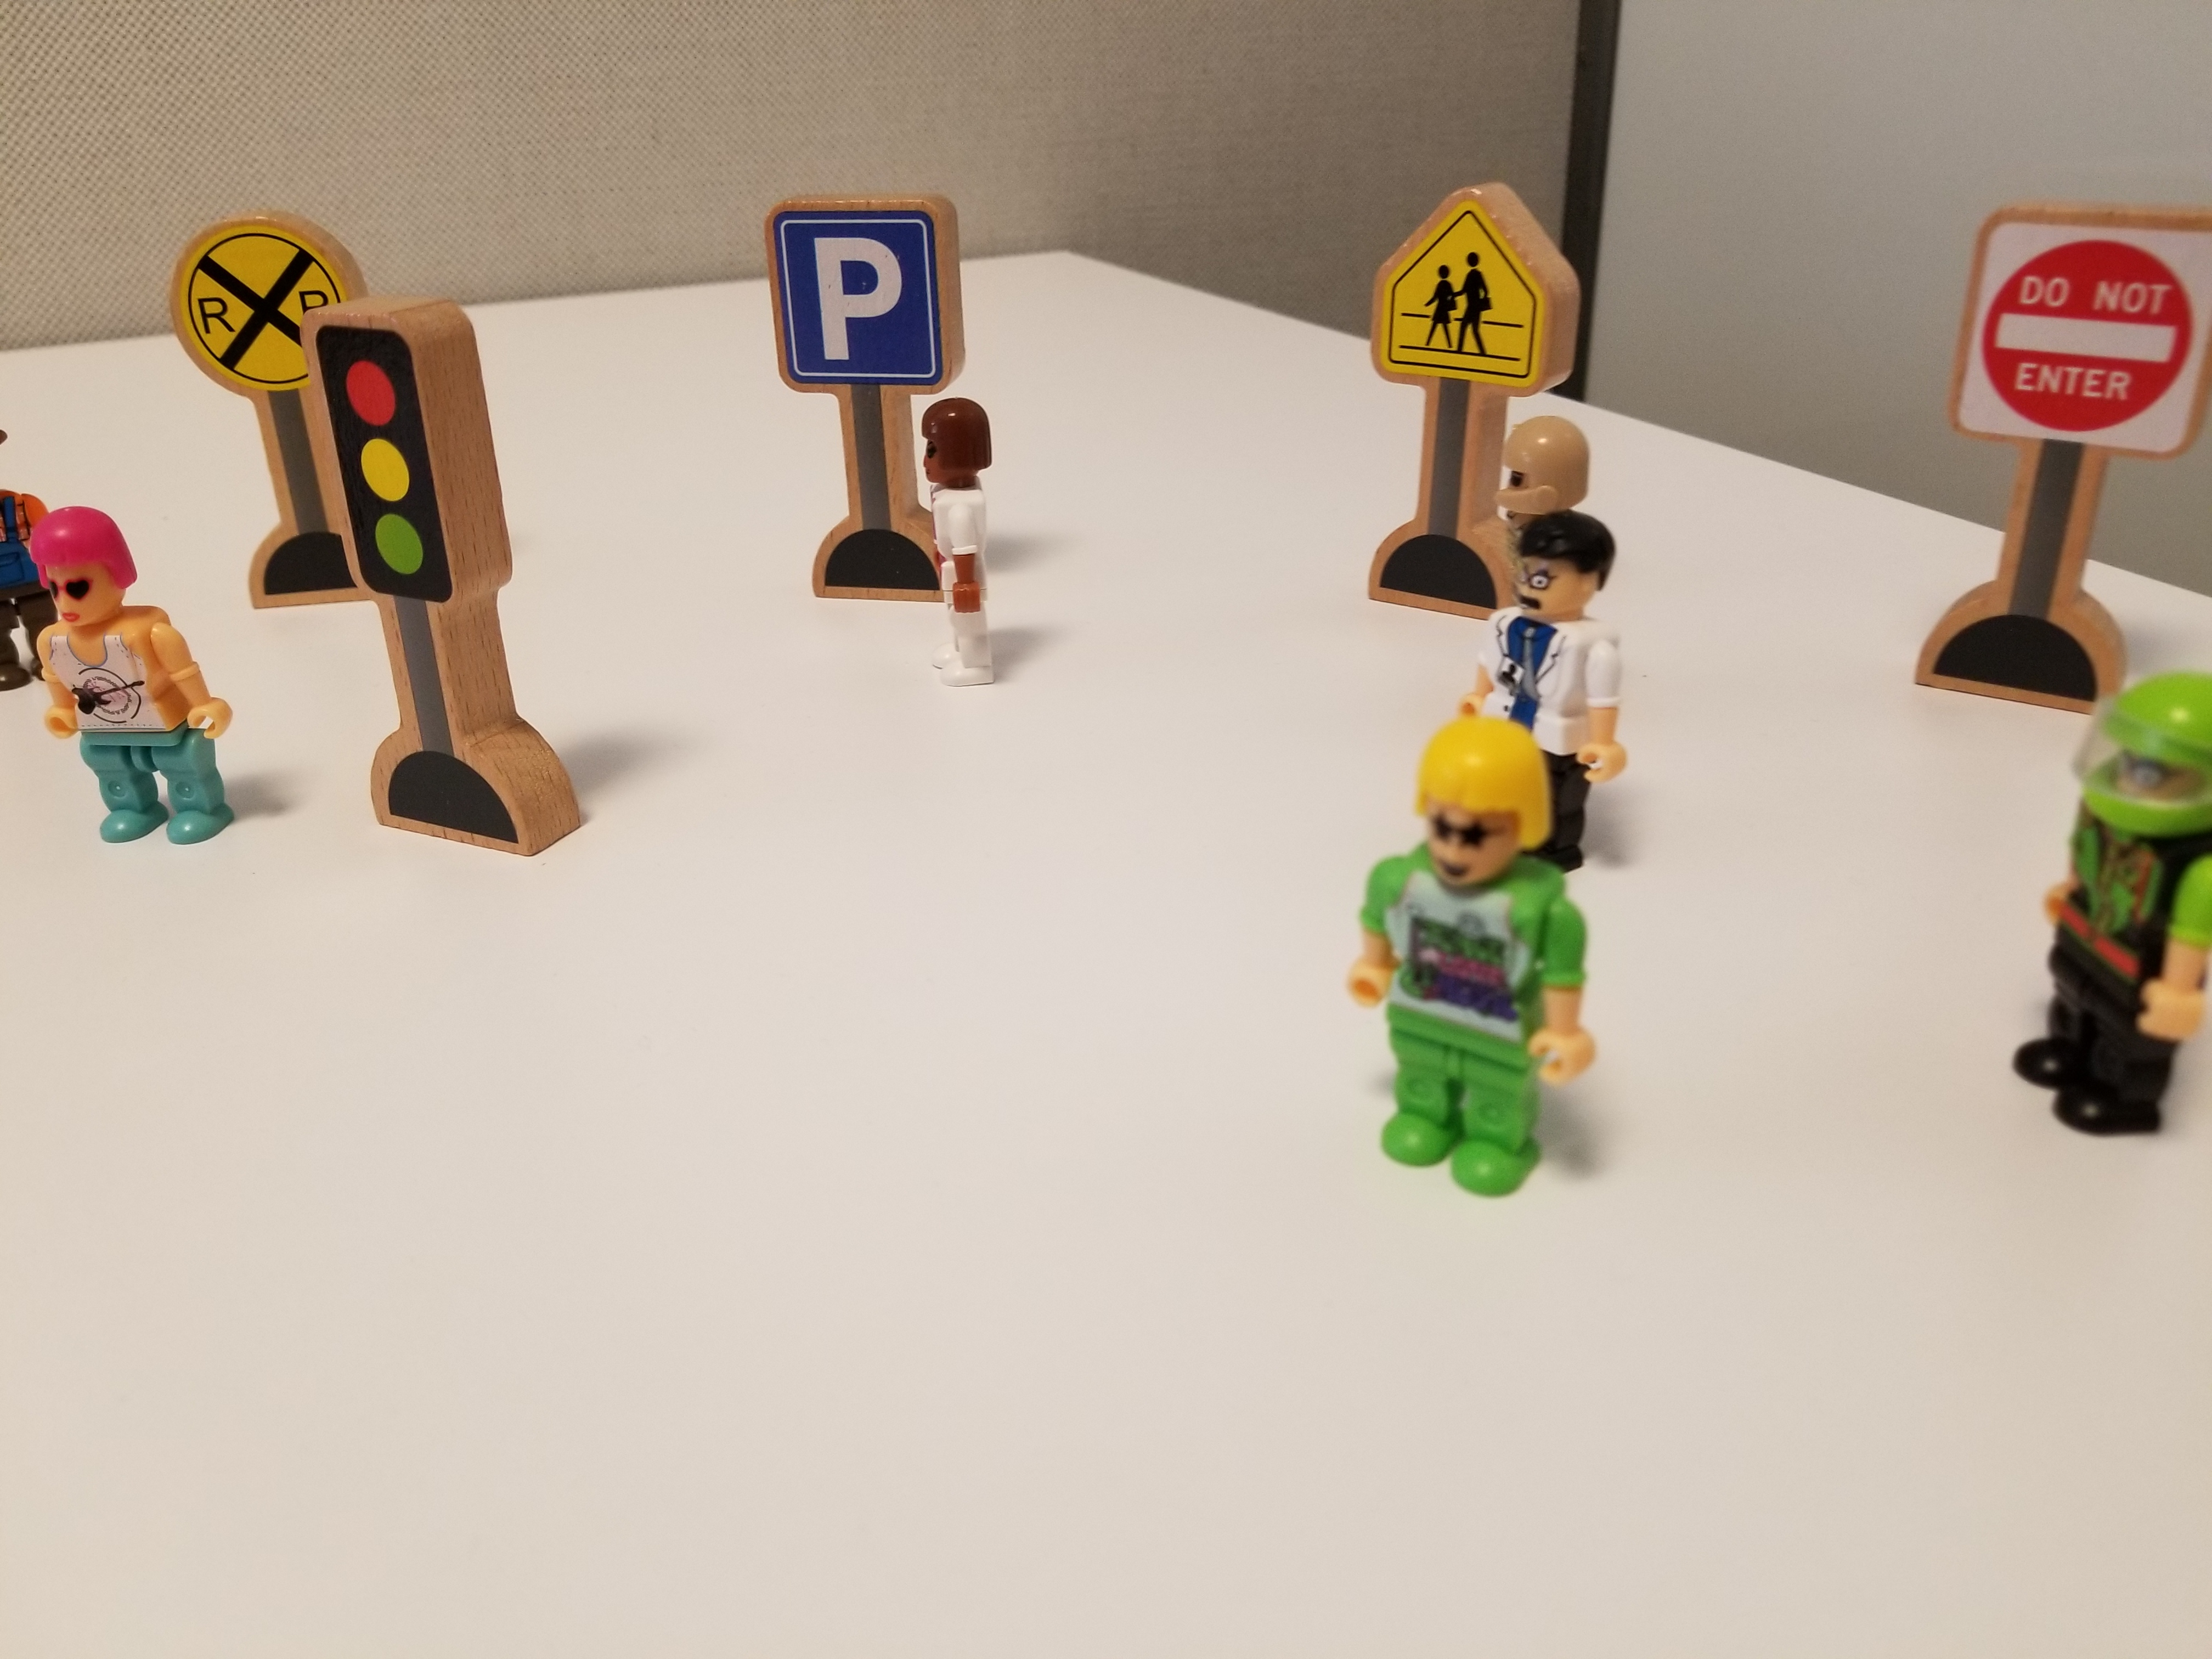Do not enter: (1932, 166, 2212, 478)
Parking: (741, 177, 989, 385)
Pedestrian crossing: (1342, 185, 1599, 400)
Railroad Crossing: (166, 212, 376, 376)
Traffic Light: (302, 308, 622, 883)
person: (1333, 692, 1614, 1232), (2011, 686, 2212, 1190), (12, 508, 260, 853), (1485, 422, 1656, 710), (905, 372, 1030, 725)
